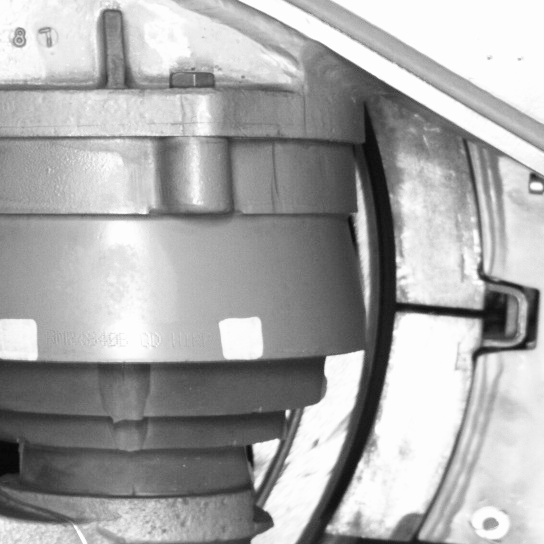KnifeSwitch: (292, 140, 473, 542)
